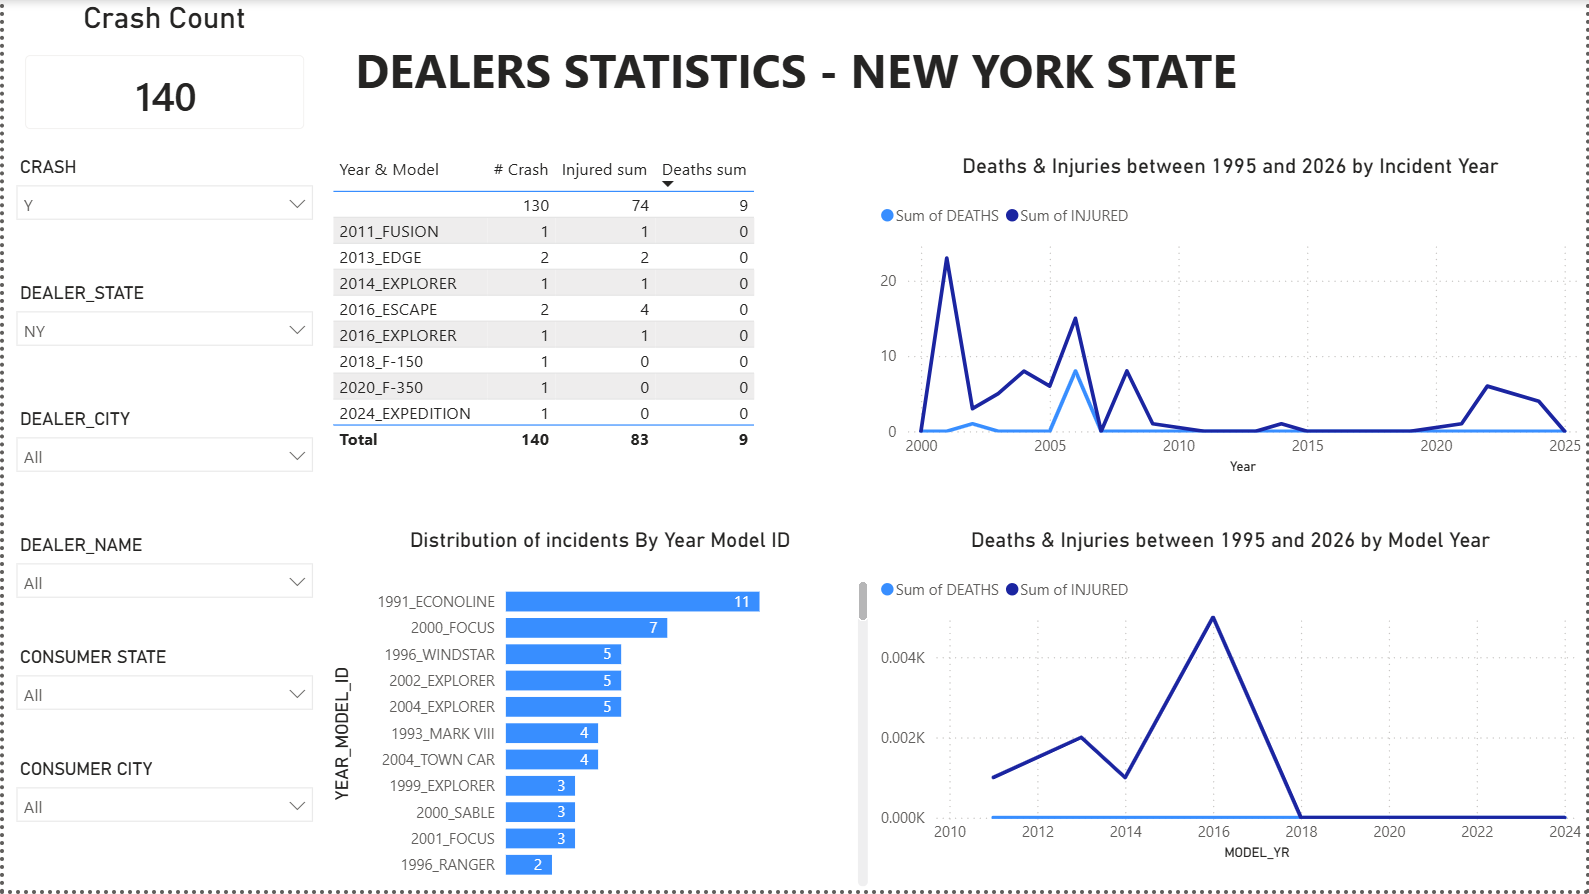

What the dashboard file says about the page in this screenshot:
{"tool":"powerbi","page":{"name":"Dealer Statistics","canvas":[1280,720],"ordinal":2},"visuals":[{"type":"textbox","box":[270.2,25.9,741,69.6],"z":0},{"type":"cardVisual","title":"Crash Count","fields":{"Data":["CountNonNull(FordExternalTable.CRASH)"]},"box":[0,0,260,121.7],"z":1000},{"type":"slicer","fields":{"Values":["FordExternalTable.CRASH"]},"box":[0,121.7,260,101.7],"z":2000},{"type":"slicer","fields":{"Values":["FordExternalTable.DEALER_STATE"]},"box":[0,223.3,260,101.7],"z":3000},{"type":"slicer","fields":{"Values":["FordExternalTable.DEALER_CITY"]},"box":[0,325,260,101.7],"z":4000},{"type":"slicer","fields":{"Values":["FordExternalTable.DEALER_NAME"]},"box":[0,426.7,260,101.7],"z":5000},{"type":"slicer","fields":{"Values":["FordExternalTable.CITY"]},"box":[0,608.3,260,103.3],"z":6000},{"type":"slicer","fields":{"Values":["FordExternalTable.STATE"]},"box":[0,518.3,260,90],"z":7000},{"type":"tableEx","fields":{"Values":["Safercar_data_FORD.YEAR_MODEL_ID","FordExternalTable.CRASH","Sum(FordExternalTable.INJURED)","Sum(FordExternalTable.DEATHS)"]},"box":[260.5,121.3,380.2,267],"z":8000},{"type":"clusteredBarChart","title":"Distribution of incidents By Year Model ID","fields":{"Category":["FordExternalTable.YEAR_MODEL_ID"],"Y":["CountNonNull(FordExternalTable.CRASH)"]},"box":[260,426.7,443.3,295],"z":9000},{"type":"lineChart","title":"Deaths & Injuries between 1995 and 2026 by Incident Year","fields":{"Category":["FordExternalTable.FAILDATE.Variation.Date Hierarchy.Year","FordExternalTable.FAILDATE.Variation.Date Hierarchy.Quarter","FordExternalTable.FAILDATE.Variation.Date Hierarchy.Month","FordExternalTable.FAILDATE.Variation.Date Hierarchy.Day"],"Y":["Sum(FordExternalTable.DEATHS)","Sum(FordExternalTable.INJURED)"]},"box":[703.3,125,576.7,263.3],"z":10000},{"type":"lineChart","title":"Deaths & Injuries between 1995 and 2026 by Model Year","fields":{"Category":["Safercar_data_FORD.MODEL_YR"],"Y":["Sum(FordExternalTable.DEATHS)","Sum(FordExternalTable.INJURED)"]},"box":[703.3,426.7,576.7,273.3],"z":11000}]}

Visuals, with their boxes in screenshot pixels (x1, y1, x2, y2), scaled from the page's 1280x720 canvas onto the 1589x894 screenshot:
textbox: [left=335, top=32, right=1255, bottom=119]
"Crash Count" cardVisual: [left=0, top=0, right=323, bottom=151]
slicer - FordExternalTable.CRASH: [left=0, top=151, right=323, bottom=277]
slicer - FordExternalTable.DEALER_STATE: [left=0, top=277, right=323, bottom=404]
slicer - FordExternalTable.DEALER_CITY: [left=0, top=404, right=323, bottom=530]
slicer - FordExternalTable.DEALER_NAME: [left=0, top=530, right=323, bottom=656]
slicer - FordExternalTable.CITY: [left=0, top=755, right=323, bottom=884]
slicer - FordExternalTable.STATE: [left=0, top=644, right=323, bottom=755]
tableEx - Safercar_data_FORD.YEAR_MODEL_ID x FordExternalTable.CRASH: [left=323, top=151, right=795, bottom=482]
"Distribution of incidents By Year Model ID" clusteredBarChart: [left=323, top=530, right=873, bottom=893]
"Deaths & Injuries between 1995 and 2026 by Incident Year" lineChart: [left=873, top=155, right=1588, bottom=482]
"Deaths & Injuries between 1995 and 2026 by Model Year" lineChart: [left=873, top=530, right=1588, bottom=869]
